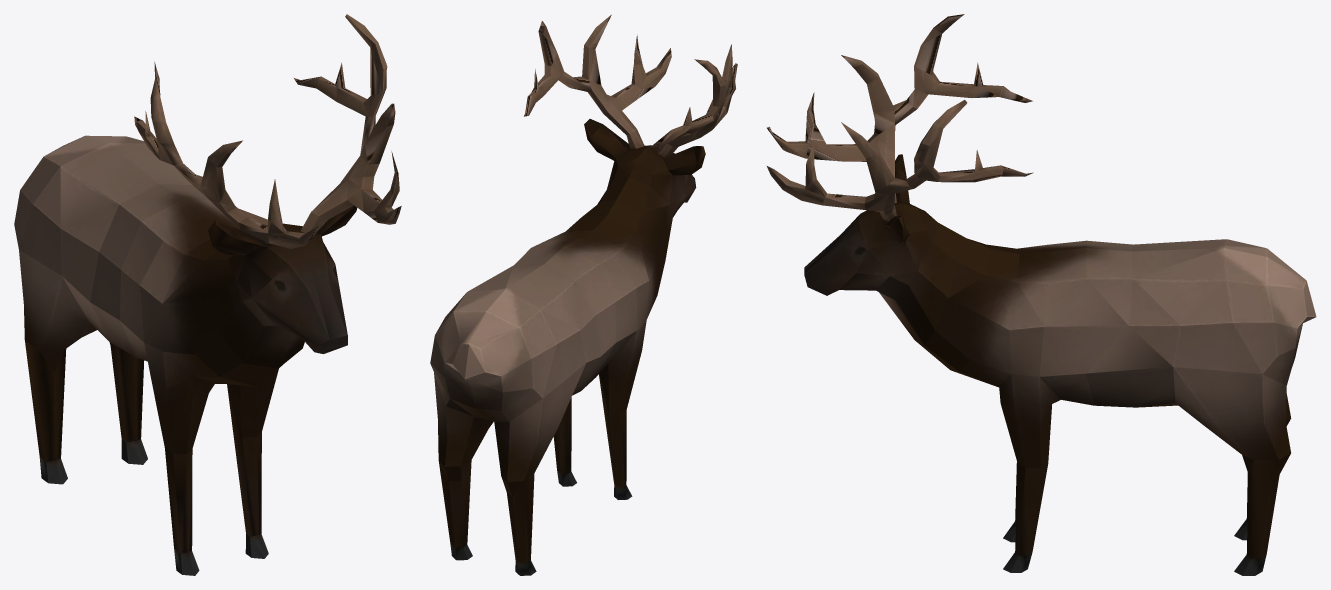
Rendered from elk.glb.
3 renders of one model, left to right at view 1: azimuth 30°, elevation 25°; view 2: azimuth 150°, elevation 25°; view 3: azimuth 270°, elevation 25°, orthographic. The views are drawn at different scales.
Parts seen in each view (by area): view 1: Elk_mesh; view 2: Elk_mesh; view 3: Elk_mesh.
Part boxes in pixels (bbox=[...]): Elk_mesh: bbox=[14, 14, 401, 575]; Elk_mesh: bbox=[430, 14, 737, 575]; Elk_mesh: bbox=[767, 14, 1316, 575].
Bounding box in the file's own units: 7.04 × 15.74 × 15.79.
Materials: 1 (1 with a texture image).
